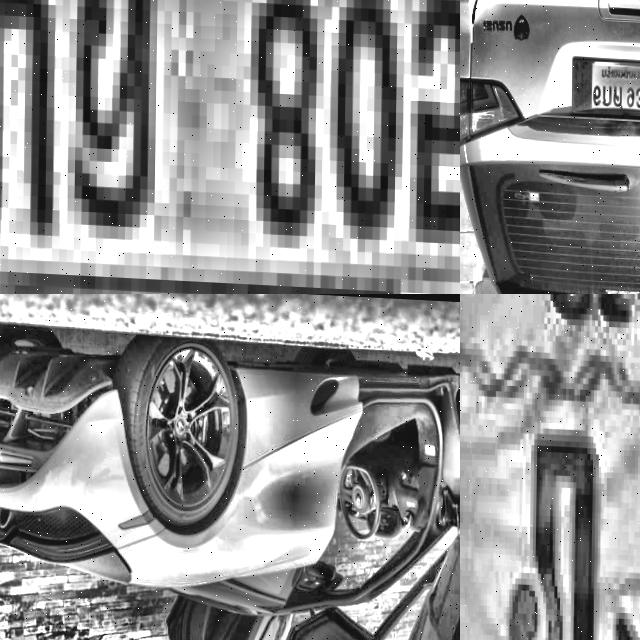license-plate: (0, 0, 460, 294), (460, 294, 640, 640), (589, 56, 640, 115)
